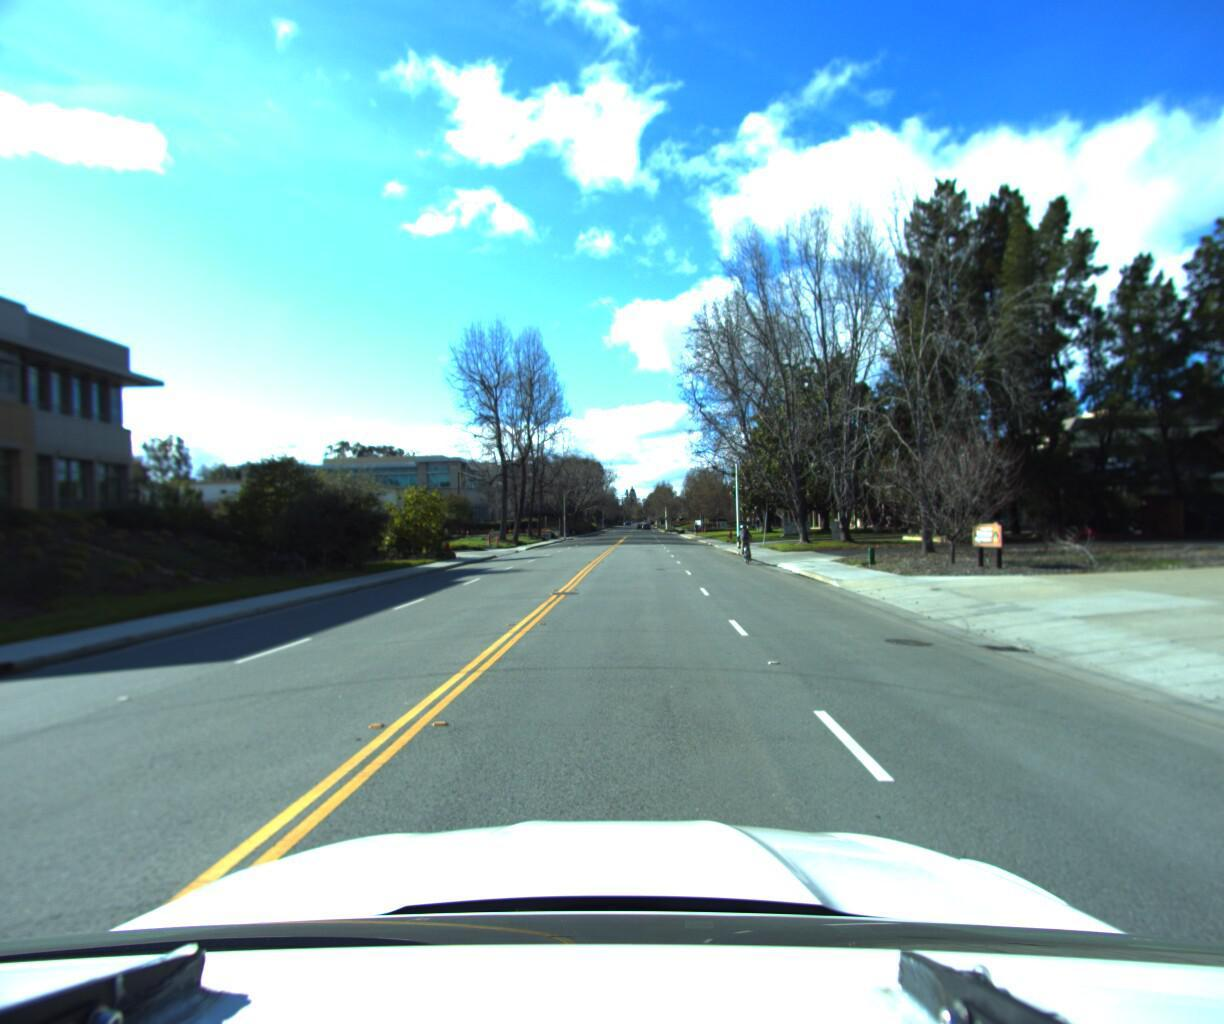bicycle: (729, 518, 753, 561)
